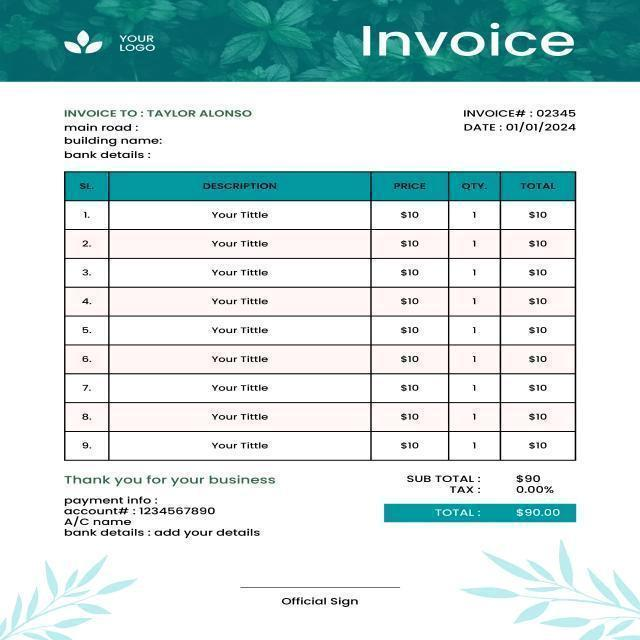ROI: (59, 172, 585, 450), (336, 9, 588, 72), (373, 468, 605, 534), (41, 101, 270, 164), (233, 557, 412, 619), (61, 492, 273, 538), (426, 101, 594, 139), (59, 467, 284, 488), (47, 7, 106, 67), (117, 17, 167, 66)
